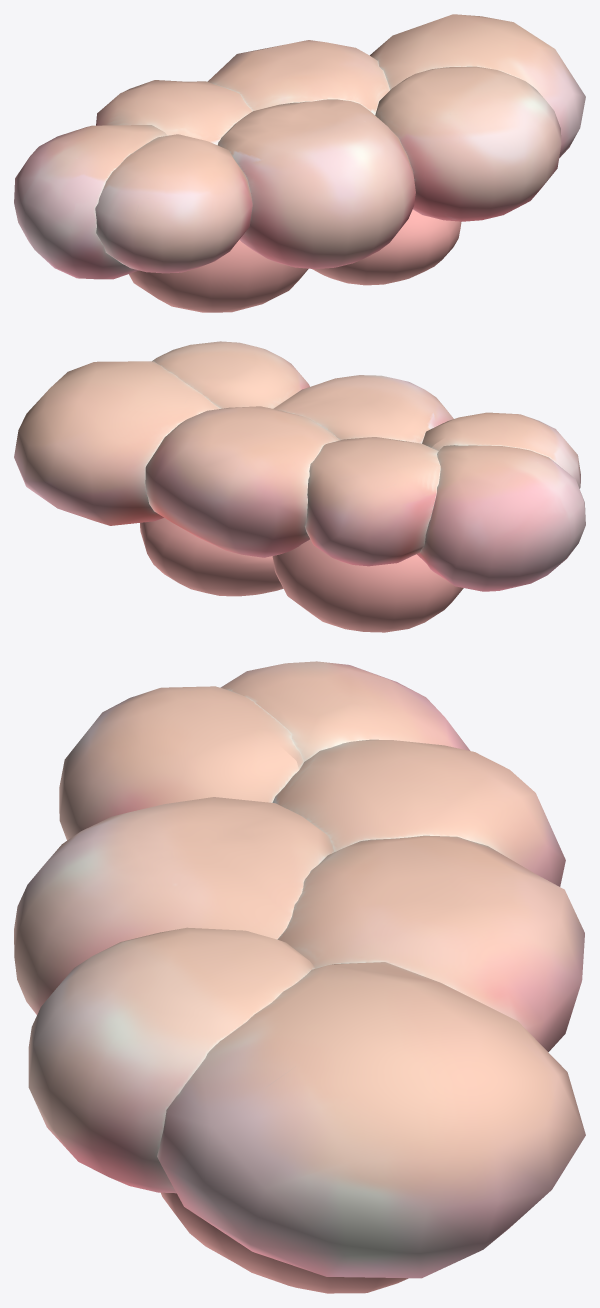
File: pinkier_cloud.fbx
3 renders of one model, top to bottom at view 1: azimuth 30°, elevation 25°; view 2: azimuth 150°, elevation 25°; view 3: azimuth 270°, elevation 25°, orthographic. The views are drawn at different scales.
Parts seen in each view (by area): view 1: Sphere.009; view 2: Sphere.009; view 3: Sphere.009.
Part boxes in pixels (x1=…): Sphere.009: x1=14, y1=14, x2=585, y2=312; Sphere.009: x1=14, y1=341, x2=585, y2=632; Sphere.009: x1=14, y1=661, x2=585, y2=1293.
Bounding box in the file's own units: 772 × 274 × 399.
